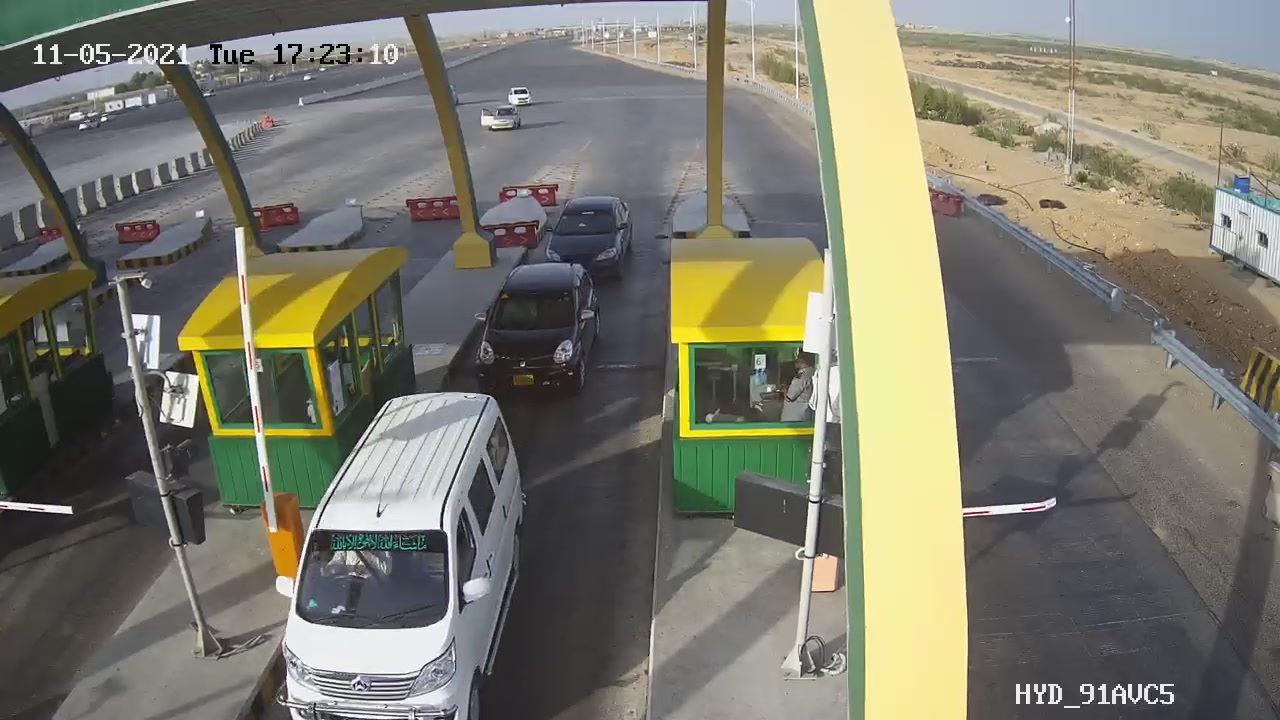F1: (451, 249, 625, 418), (529, 186, 650, 290)
